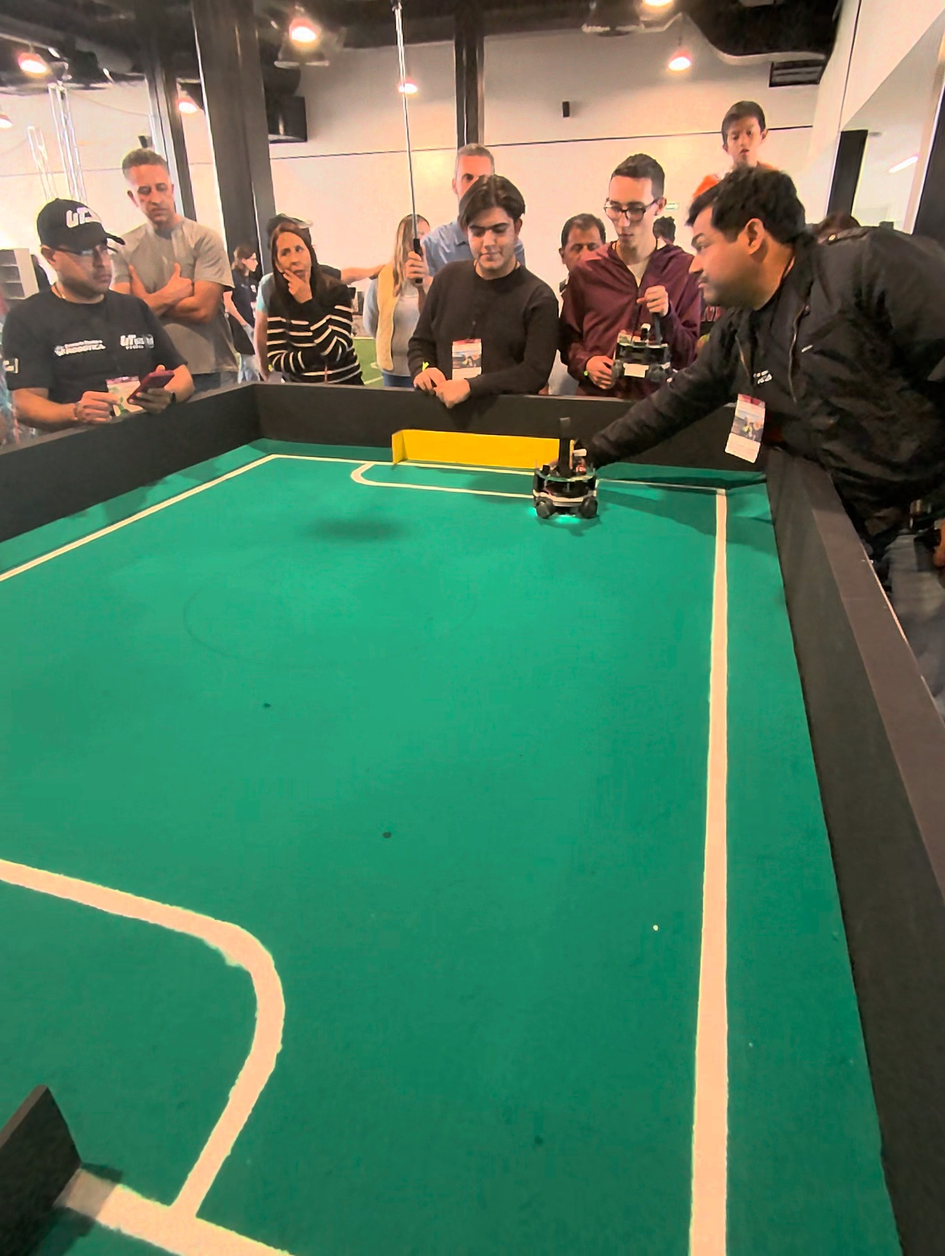Robot: (526, 418, 603, 530), (526, 413, 601, 523)
